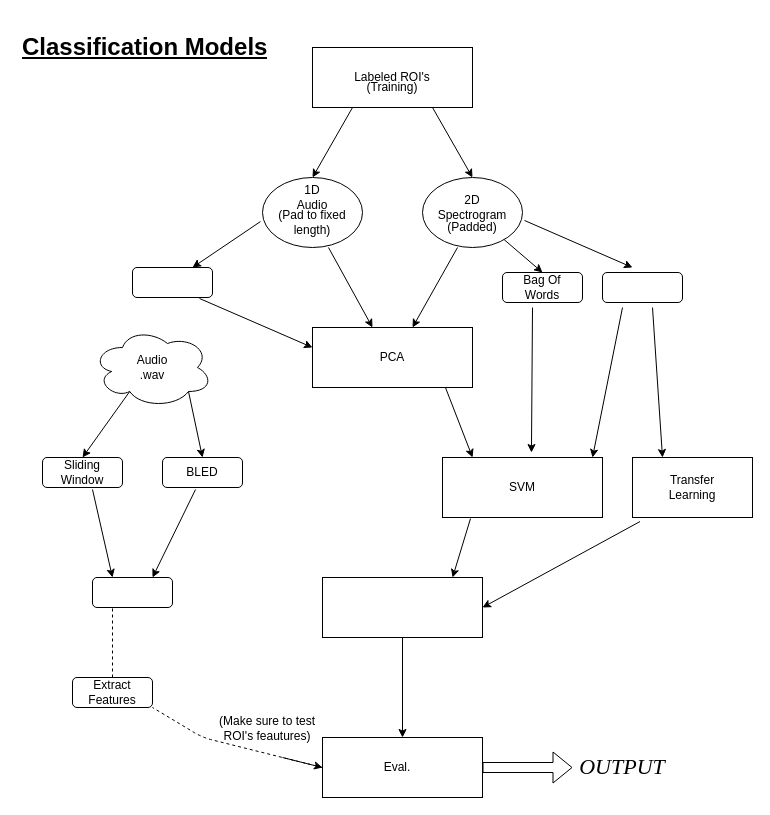
This 770x815 diagram has some shape labels left out. Each missing label, with the box of its shape:
CNN: (602, 272, 682, 302)
Fixed # Features: (132, 266, 212, 298)
Test ROI's: (92, 576, 172, 608)
Trained Model: (322, 576, 482, 638)
